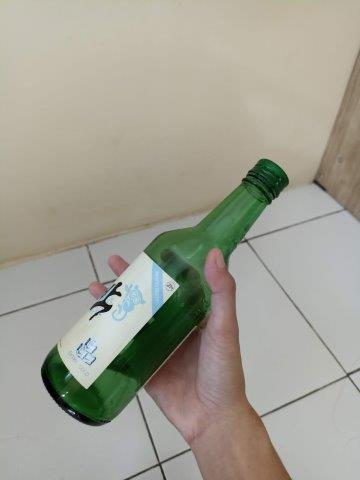botolkaca: (34, 159, 290, 429)
